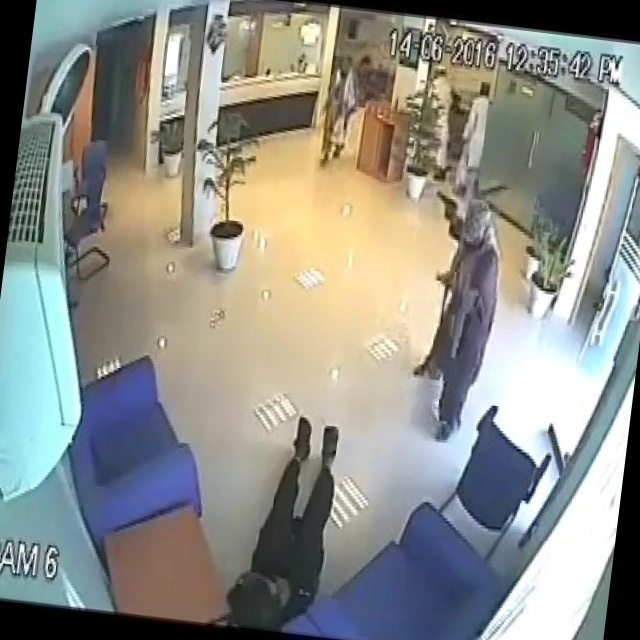gun: (429, 183, 460, 221)
